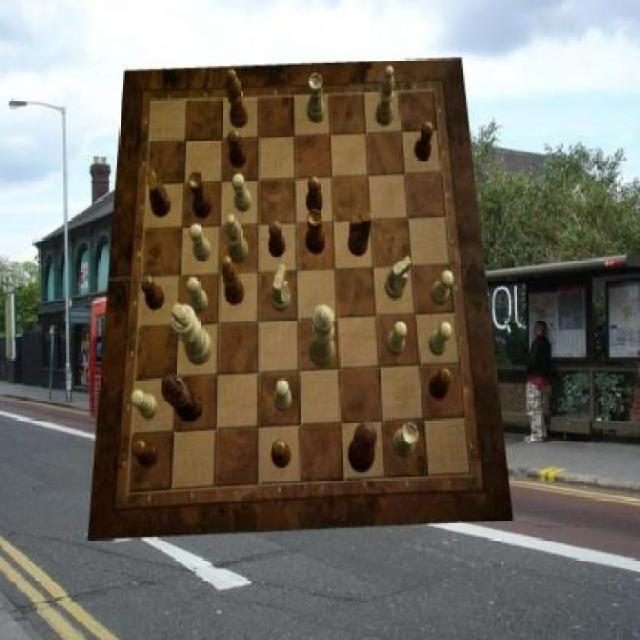bishop: (226, 69, 249, 128), (223, 257, 246, 306)
black-bishop: (162, 374, 204, 421)
black-king: (148, 170, 172, 218), (348, 211, 370, 256)
black-knight: (142, 276, 166, 312), (131, 440, 158, 469), (228, 129, 247, 168), (430, 368, 452, 400), (416, 123, 434, 162), (269, 220, 286, 258), (306, 177, 323, 213), (271, 440, 291, 468)
black-pawn: (348, 420, 377, 474)
black-queen: (189, 172, 213, 220), (306, 209, 326, 255)
black-rook: (226, 216, 249, 264), (376, 65, 394, 126)
white-bishop: (171, 303, 213, 365)
white-king: (384, 256, 412, 300), (270, 265, 292, 312)
white-knight: (130, 389, 158, 420), (186, 278, 209, 314), (431, 270, 454, 306), (189, 224, 212, 260), (386, 322, 407, 358), (430, 322, 452, 356), (232, 174, 252, 211), (274, 378, 291, 412)
white-pawn: (308, 304, 334, 368)
white-queen: (392, 422, 420, 458), (308, 74, 325, 123)
